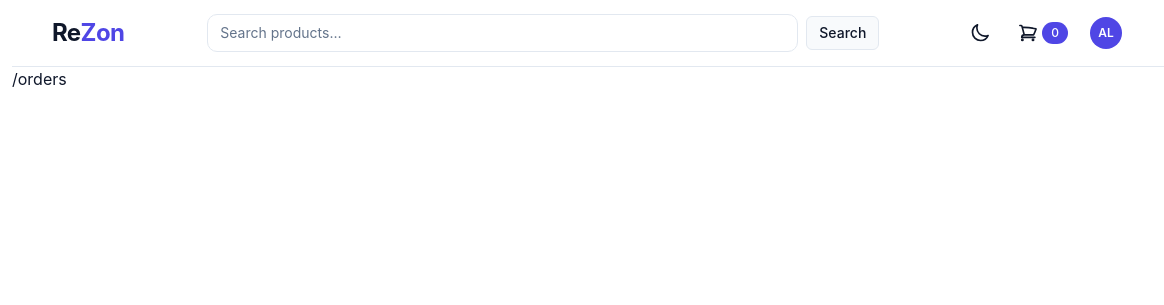
Scenario: Header › shows profile circle + username and order actions in dropdown, and signs out on click
This screenshot has width=1164, height=305.
Later steps or results of the test are not shown.
Click the button with aria-label "profile menu" at (1106, 33), box [1088,15,1124,51]
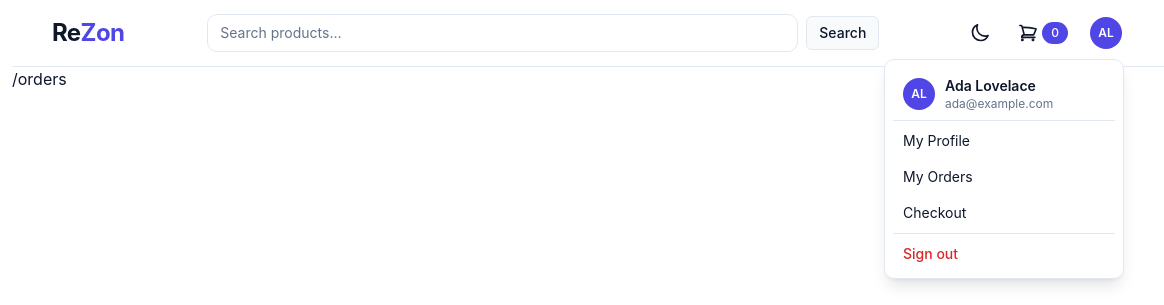
Now the text "Ada Lovelace" is shown, box [945,77,1036,94]
Now the text "ada@example.com" is shown, box [945,96,1053,112]
